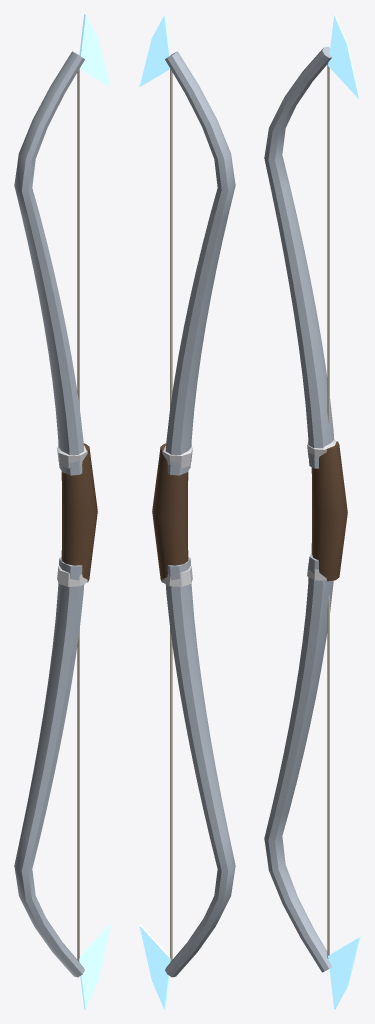
Rendered from frostwing_bow.glb.
3 views of the same model, side by side, from view 1: azimuth 30°, elevation 25°; view 2: azimuth 150°, elevation 25°; view 3: azimuth 330°, elevation 25° (orthographic).
Visible parts, largest first — view 1: frostwing_bow; view 2: frostwing_bow; view 3: frostwing_bow.
Part boxes in pixels (x1=…): frostwing_bow: x1=14, y1=14, x2=110, y2=1009; frostwing_bow: x1=139, y1=14, x2=235, y2=1009; frostwing_bow: x1=264, y1=14, x2=360, y2=1009.
Size of the model in its own units: 0.1498 by 1.52 by 0.044.
